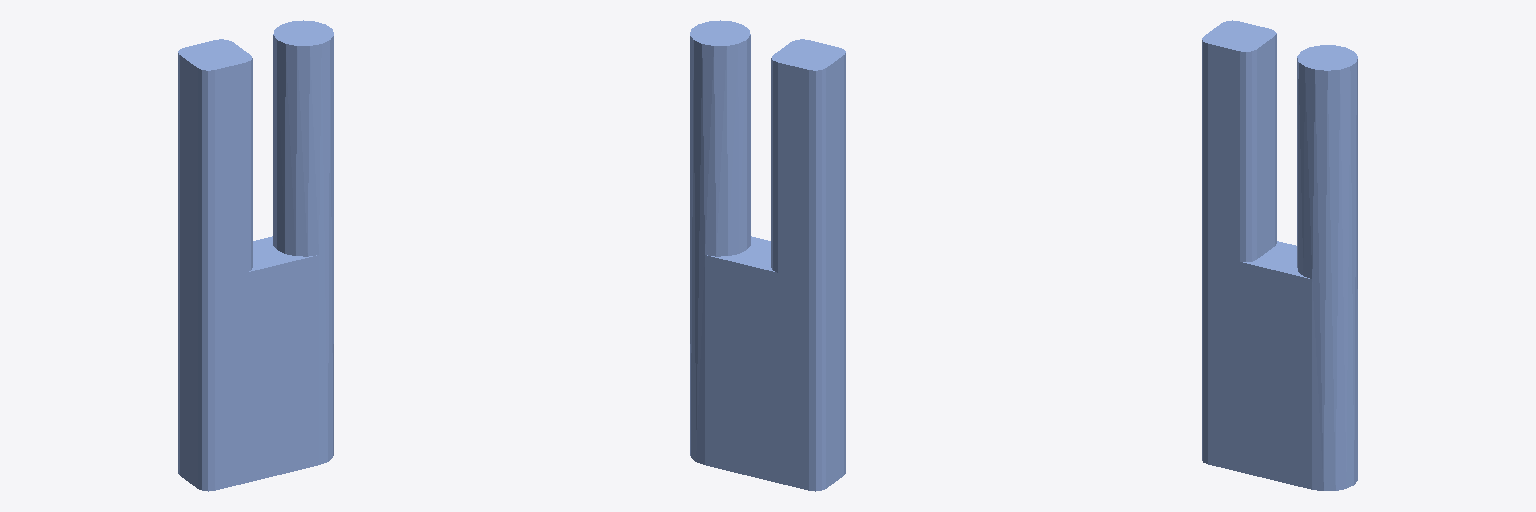
URDF robot description (Medium_Long_SquareCircle_JeansBlue):
<?xml version="1.0"?>
<robot name="Medium_Long_SquareCircle_JeansBlue">
    <link name="Medium_Long_SquareCircle_JeansBlue">
        <visual>
            <geometry>
                <mesh filename="../mesh/factory_insertion/Medium_Long_SquareCircle_JeansBlue.obj" scale="0.001 0.001 0.001"/>
            </geometry>
            <material name="JeansBlue">
              <color rgba="0.65 0.75 0.95 0"/>
            </material>
        </visual>
        <collision>
            <geometry>
                <mesh filename="../mesh/factory_insertion/Medium_Long_SquareCircle_JeansBlue.obj" scale="0.001 0.001 0.001"/>
            </geometry>
            <sdf resolution="512"/>
        </collision>
    </link>
</robot>

--- What the picture shows (computed from the rendered views, not written in the file) ---
3 views of the same robot in one strip: view 1: azimuth 30°, elevation 25°; view 2: azimuth 150°, elevation 25°; view 3: azimuth 330°, elevation 25° (orthographic).
Model Medium_Long_SquareCircle_JeansBlue with 1 links and 0 joints (none), rooted at Medium_Long_SquareCircle_JeansBlue, posed every joint at zero.
Visible links, largest first — view 1: Medium_Long_SquareCircle_JeansBlue; view 2: Medium_Long_SquareCircle_JeansBlue; view 3: Medium_Long_SquareCircle_JeansBlue.
Boxes of the visible links, left/top/right/bottom form: Medium_Long_SquareCircle_JeansBlue: left=178, top=20, right=333, bottom=491; Medium_Long_SquareCircle_JeansBlue: left=690, top=20, right=845, bottom=491; Medium_Long_SquareCircle_JeansBlue: left=1202, top=20, right=1357, bottom=490.
Size in the robot's own frame: 0.0528 by 0.0198 by 0.15 metres.
1 mesh visuals loaded from 1 distinct referenced files (1 OBJ).
